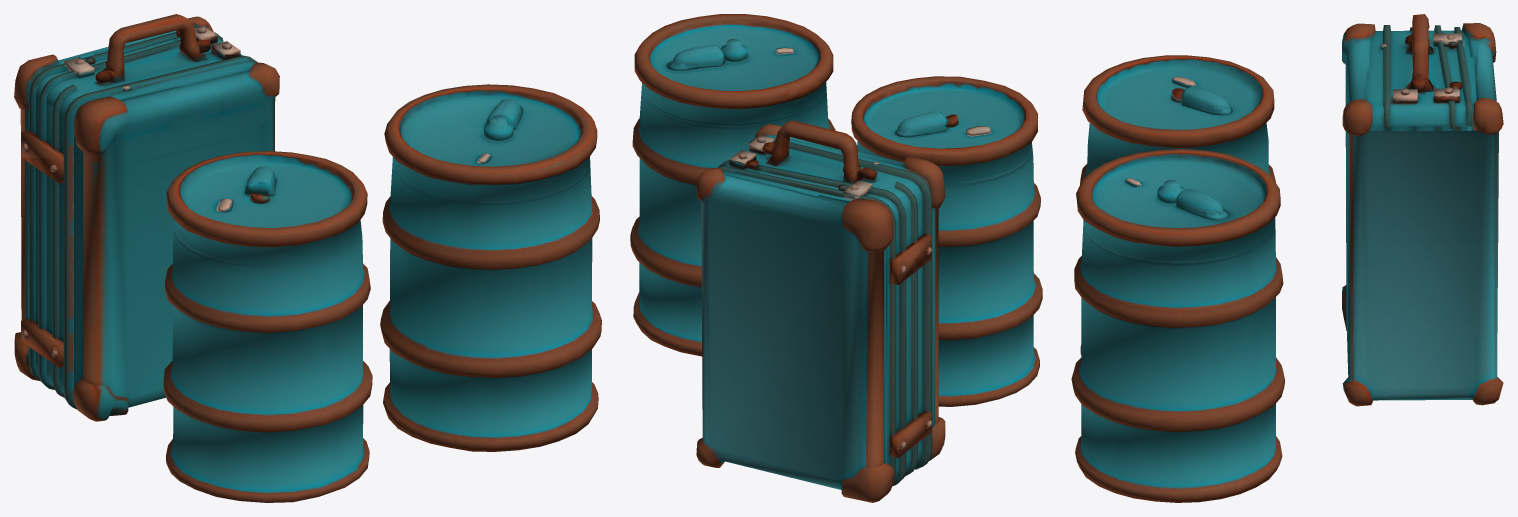
The model's file is prop_barrel.glb.
The picture shows the model from 3 angles, left to right: view 1: azimuth 30°, elevation 25°; view 2: azimuth 150°, elevation 25°; view 3: azimuth 270°, elevation 25°; orthographic projection. The views are drawn at different scales.
Visible parts, largest first — view 1: tripo_node_3956e2fc-f5d8-44fc-968f-d76930e179bc; view 2: tripo_node_3956e2fc-f5d8-44fc-968f-d76930e179bc; view 3: tripo_node_3956e2fc-f5d8-44fc-968f-d76930e179bc.
Boxes of the visible parts, box(x1,y1,x2,y2) form: tripo_node_3956e2fc-f5d8-44fc-968f-d76930e179bc: box(14, 14, 601, 502); tripo_node_3956e2fc-f5d8-44fc-968f-d76930e179bc: box(630, 14, 1042, 502); tripo_node_3956e2fc-f5d8-44fc-968f-d76930e179bc: box(1071, 14, 1503, 502).
Bounding box in the file's own units: 0.998 × 0.8027 × 0.9238.
Materials: 1 (1 with a texture image).
